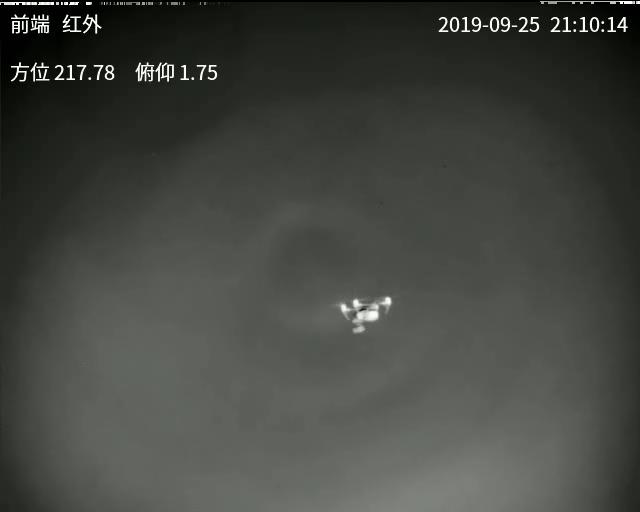uav: (336, 293, 393, 337)
